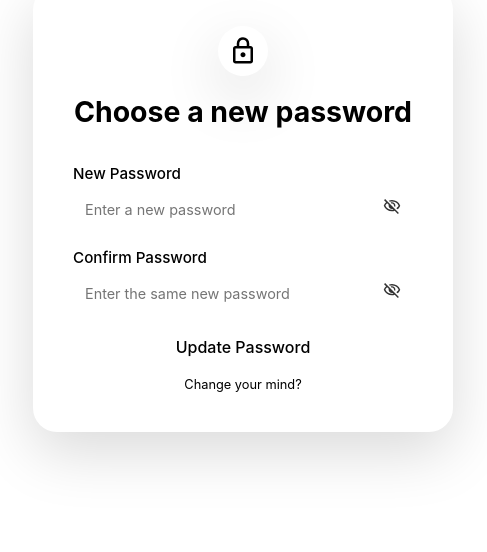
Test: ResetPasswordComponent › With Token › should show an error message on invalid request forms
Click the button "Update Password": (243, 347) [154,327,332,367]
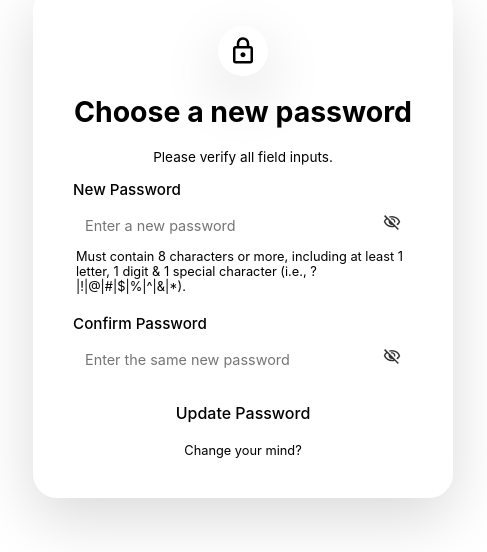
Expected: the text "Please verify all field inputs." is shown, [153,149,333,165]
Expected: the text with class "general" reads "Please verify all field inputs.", [153,149,333,165]
